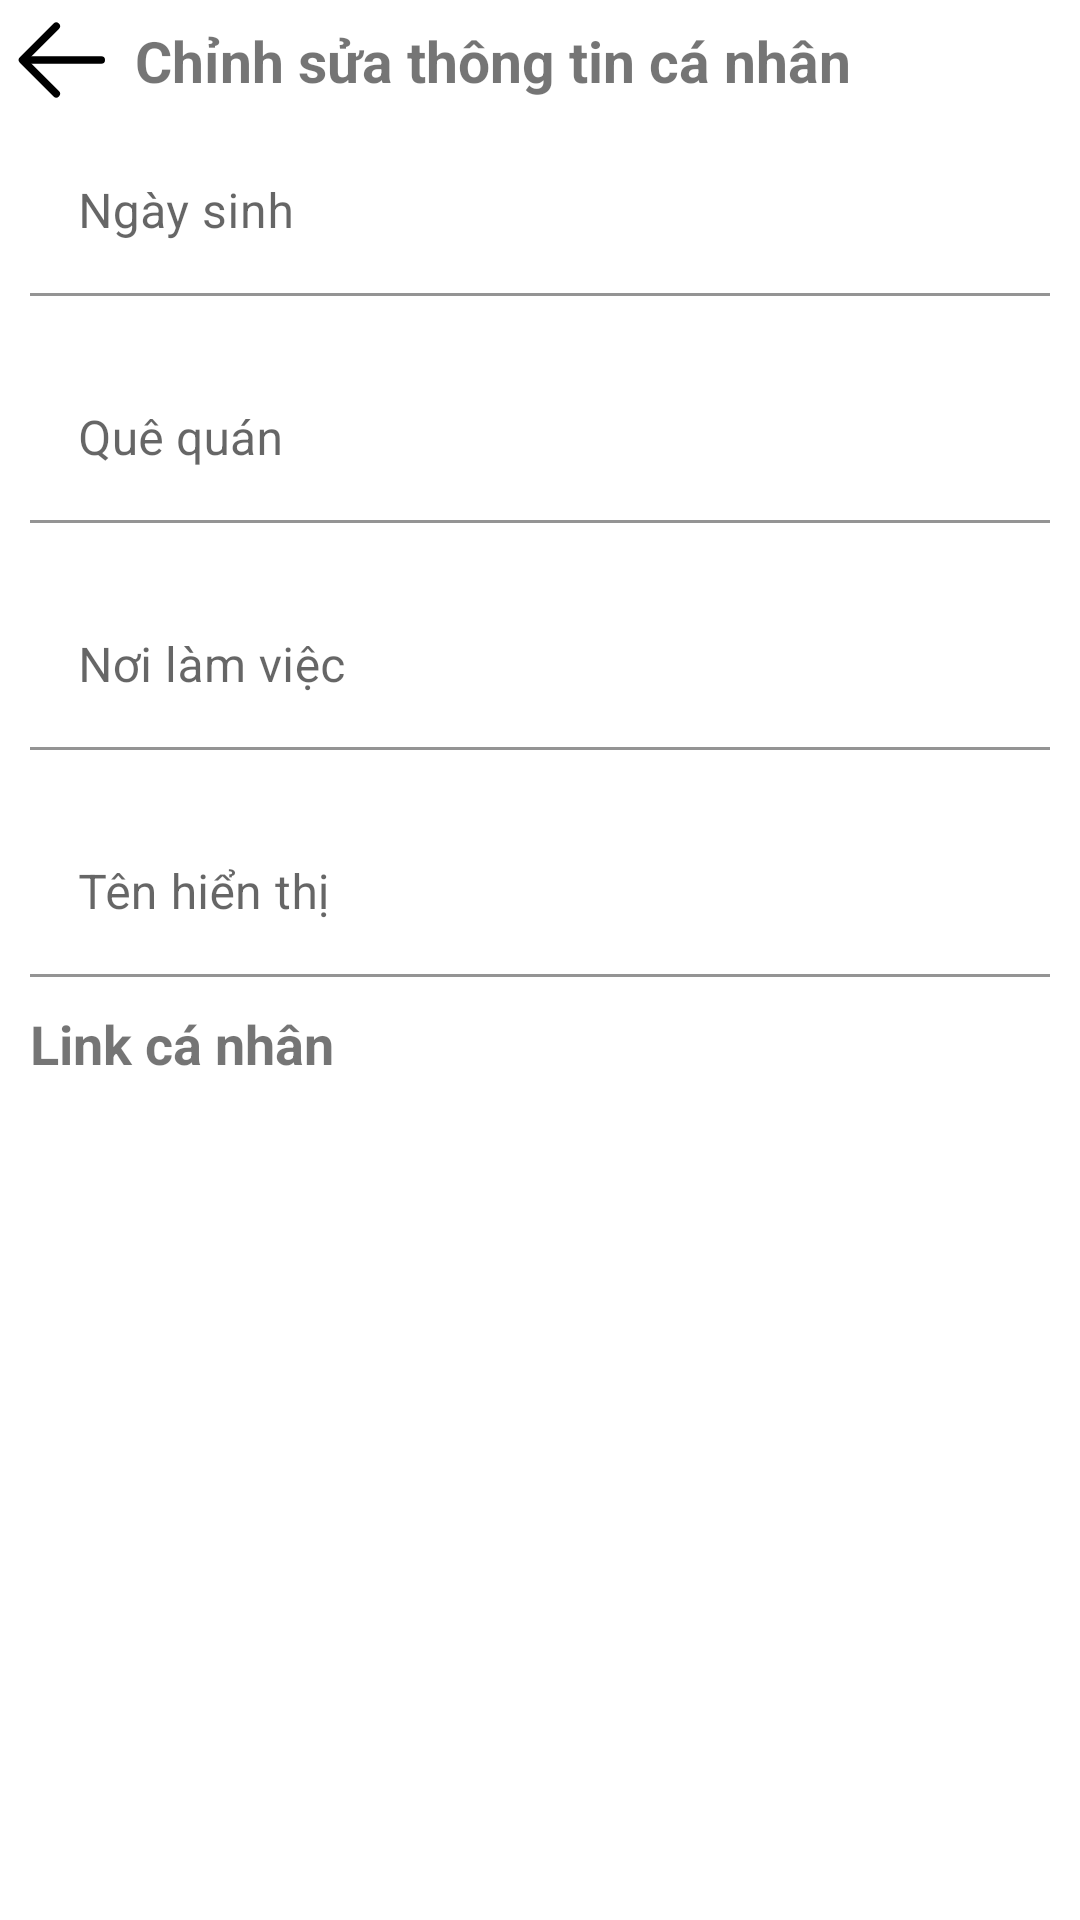

Named icons in this screenshot (1080px x 1920px) and their centers, (x,y):
simple back: (61,60)
